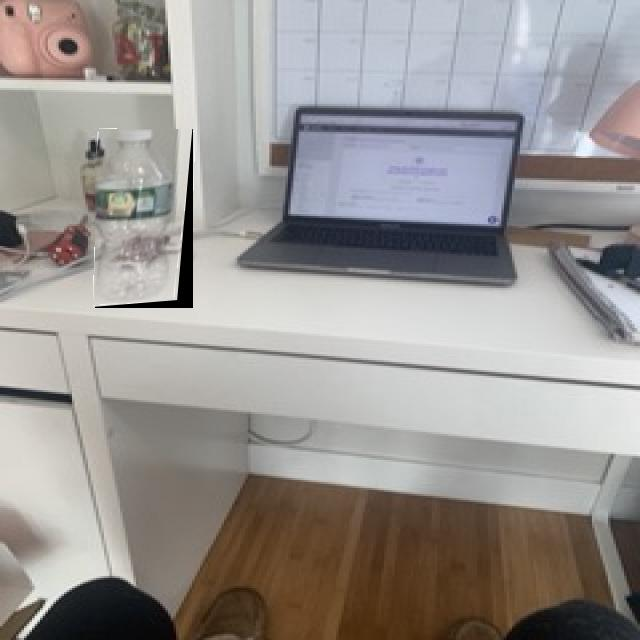water_bottle: (95, 129, 193, 308)
